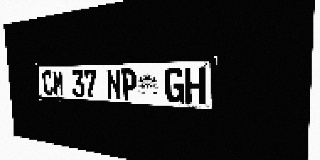3: (71, 70, 85, 98)
7: (84, 69, 98, 98)
C: (42, 70, 54, 96)
G: (165, 68, 184, 103)
H: (185, 67, 206, 105)
M: (52, 70, 64, 96)
N: (106, 69, 121, 100)
P: (121, 69, 137, 101)
